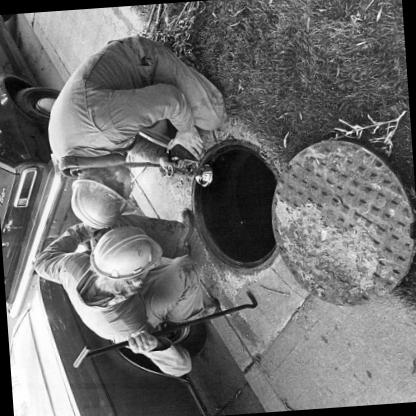manholes: (164, 105, 416, 324)
